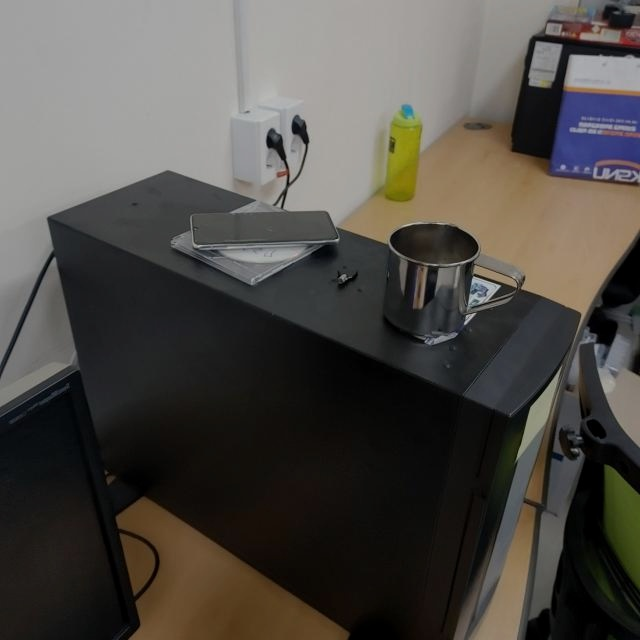cup: (383, 221, 524, 339)
phone: (188, 209, 341, 248)
